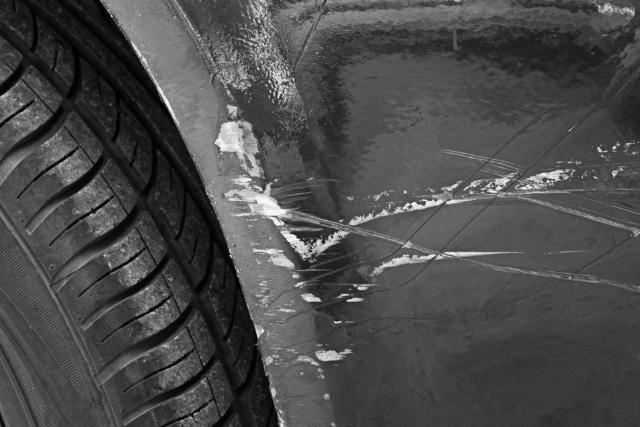Fender: (180, 37, 640, 424)
